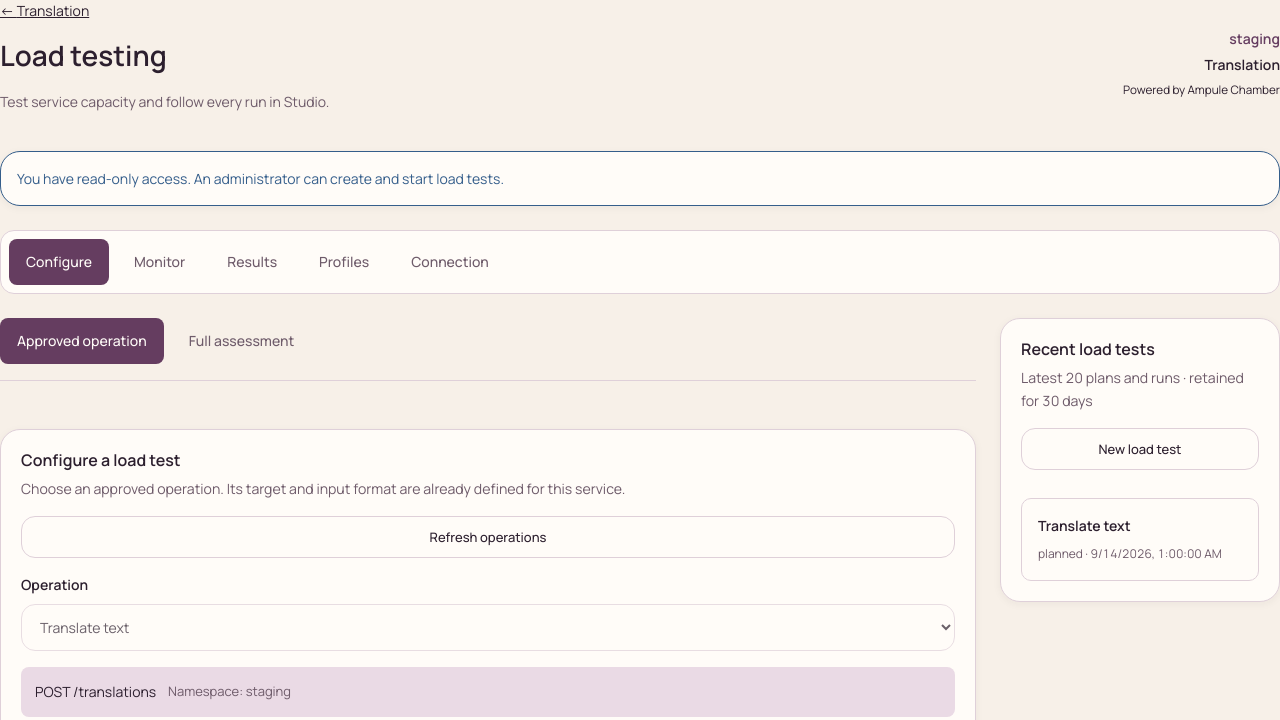
Scenario: service load testing › prevents read-only users from planning or starting
Click the button "Translate text planned · 9/14/2026, 1:00:00 AM". click: (1140,539)
box: x1=1021 y1=498 x2=1259 y2=581
(page scrolled)
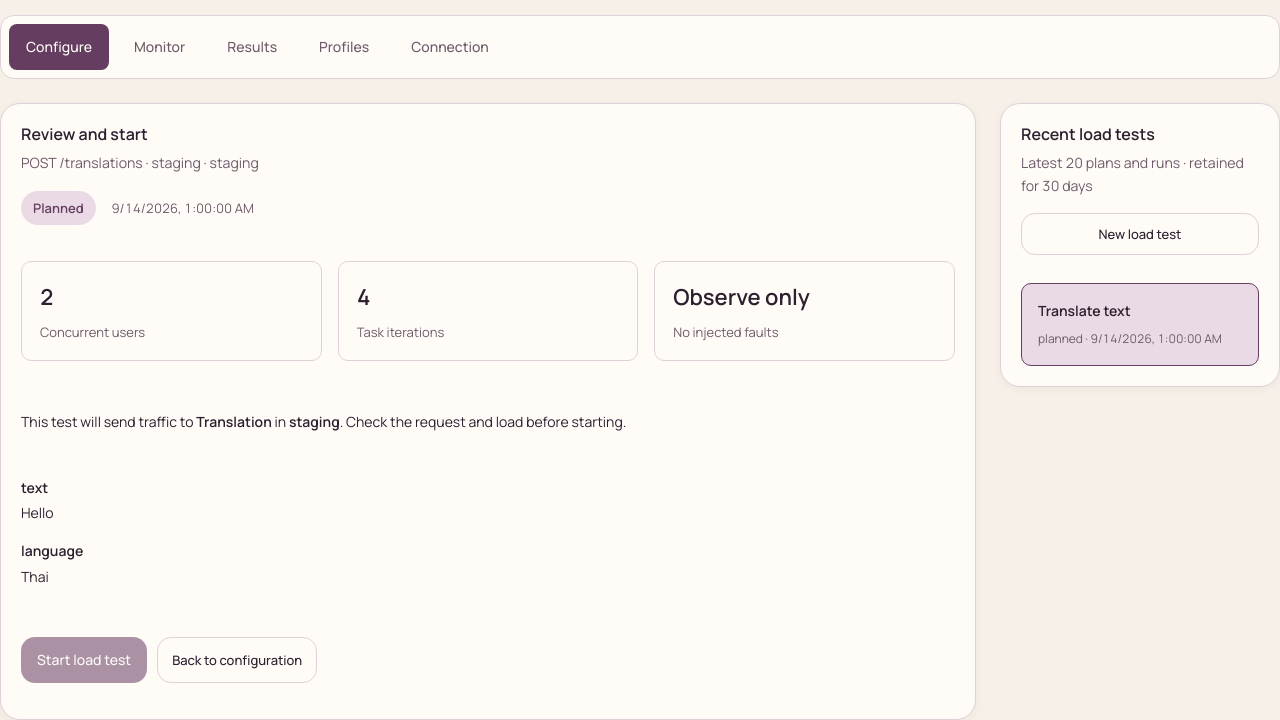
expect the button "Start load test" is disabled: met, box x1=21 y1=638 x2=147 y2=683
